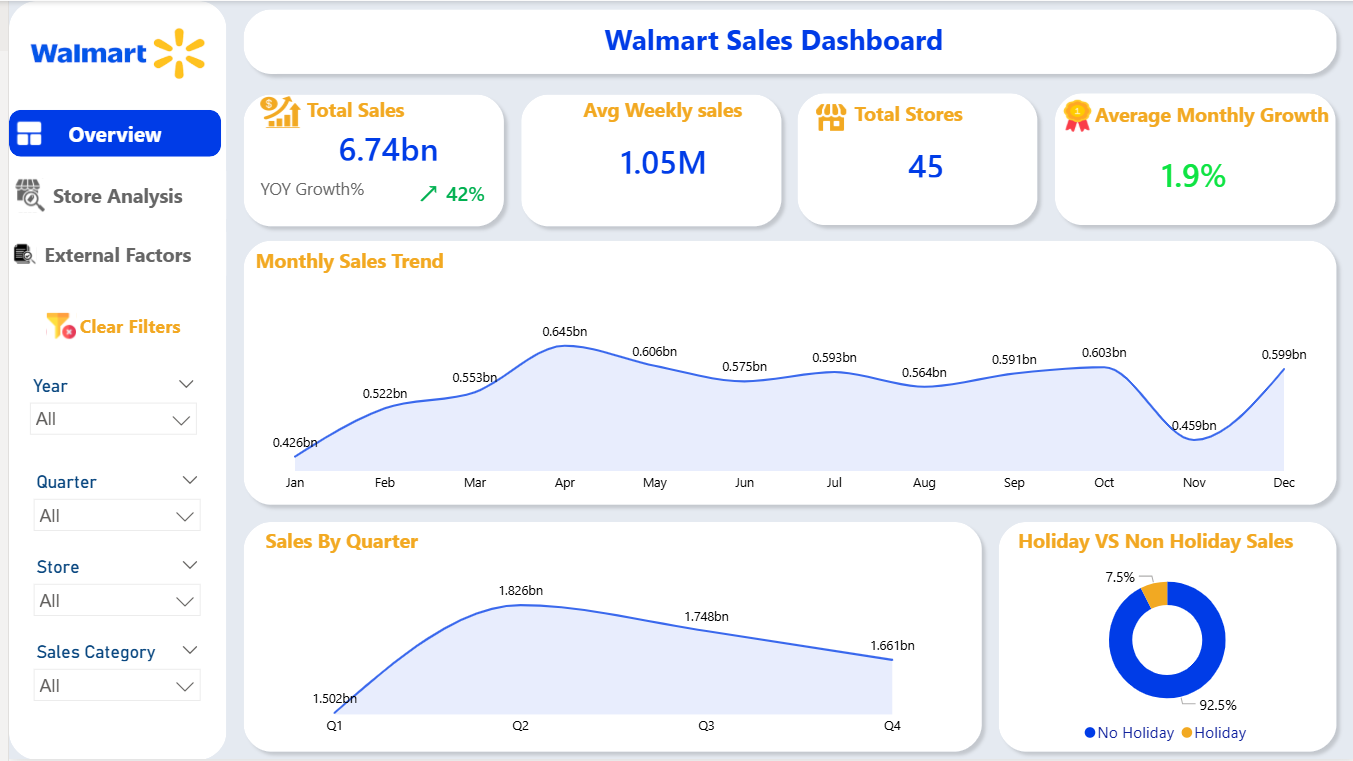

The page's visual inventory and layout, read from the dashboard file:
{"tool":"powerbi","page":{"name":"Overview Dashboard","canvas":[1280,720],"ordinal":0},"visuals":[{"type":"shape","box":[984.5,79.6,282.3,141.2],"z":0},{"type":"shape","box":[0,0,206.3,720.2],"z":1000},{"type":"shape","box":[214.7,0,1053.2,77.2],"z":2000},{"type":"textbox","box":[255.8,13.3,939.8,50.7],"z":3000},{"type":"image","box":[18.1,8.4,170.1,82],"z":4000},{"type":"shape","box":[214.7,80.1,263,141.2],"z":5000},{"type":"shape","box":[477.8,80.1,263,141.2],"z":6000},{"type":"shape","box":[740.8,79.6,243.7,141.2],"z":7000},{"type":"cardVisual","fields":{"Data":["Measure Table.Total Sales"]},"box":[281.1,107.4,158,62.7],"z":8000},{"type":"textbox","box":[277.5,85.7,161.7,43.4],"z":9000},{"type":"image","box":[238.9,90.5,38.6,30.2],"z":10000},{"type":"textbox","box":[521.2,85.7,199.1,38.6],"z":11000},{"type":"cardVisual","fields":{"Data":["Measure Table.Avg Weekly Sales"]},"box":[540.5,120.6,161.7,60.3],"z":12000},{"type":"textbox","box":[797.5,89.3,173.7,44.6],"z":13000},{"type":"cardVisual","fields":{"Data":["Measure Table.Total Stores"]},"box":[786.6,124.3,168.9,60.3],"z":14000},{"type":"image","box":[762.5,94.1,35,33.8],"z":15000},{"type":"shape","box":[214.7,219.6,1053.2,266.6],"z":16000},{"type":"shape","box":[931.4,486.2,336.6,234],"z":17000},{"type":"lineChart","fields":{"Y":["Measure Table.Total Sales"],"Category":["Calender.Month Name"]},"box":[232.8,287.1,1017,188.2],"z":18000},{"type":"shape","box":[214.7,486.2,716.6,234],"z":19000},{"type":"textbox","box":[238.9,494.6,392.1,42.2],"z":20000},{"type":"textbox","box":[229.2,229.2,392.1,42.2],"z":21000},{"type":"donutChart","fields":{"Category":["Walmart_Sales.Holiday Type"],"Y":["Measure Table.Total Sales"]},"box":[937.4,530.8,324.5,183.4],"z":22000},{"type":"textbox","box":[953.1,494.6,314.9,42.2],"z":23000},{"type":"actionButton","box":[0,103.8,201.5,44.6],"z":24000},{"type":"actionButton","box":[0,161.7,206.3,45.8],"z":25000},{"type":"actionButton","box":[0,219.6,206.3,41],"z":26000},{"type":"slicer","fields":{"Values":["Calender.Year"]},"box":[9.7,349.9,178.6,62.7],"z":27000},{"type":"slicer","fields":{"Values":["Calender.Quarter"]},"box":[13.4,441,178.6,62.7],"z":28000},{"type":"slicer","fields":{"Values":["Walmart_Sales.Store"]},"box":[13.4,522.1,178.6,62.7],"z":29000},{"type":"slicer","fields":{"Values":["Walmart_Sales.Sales Category"]},"box":[13.4,603.2,178.6,62.7],"z":30000},{"type":"actionButton","box":[28.5,286.7,141.5,42.2],"z":32000},{"type":"cardVisual","title":"YOY growth%","fields":{"Data":["Measure Table.YOY%"]},"box":[377.6,154.4,112.2,53.1],"z":33000},{"type":"cardVisual","title":"YOY growth%","fields":{"Data":["Measure Table.ARROW"]},"box":[358.3,148.4,77.2,59.1],"z":34000},{"type":"textbox","box":[234,161.7,143.6,36.2],"z":35000},{"type":"textbox","box":[1003.8,90.5,276.3,43.4],"z":36000},{"type":"image","box":[995.3,94.1,37.4,30.2],"z":38000},{"type":"lineChart","fields":{"Y":["Measure Table.Total Sales"],"Category":["Calender.Quarter"]},"box":[234,536.9,680.4,170.1],"z":39000},{"type":"cardVisual","fields":{"Data":["Measure Table.Avg Monthly Growth"]},"box":[1033.9,129.1,183.4,67.6],"z":40000}]}

Visuals, with their boxes in screenshot pixels (x1, y1, x2, y2), scaled from the page's 1280x720 canvas onto the 1353x761 screenshot:
shape: [left=1041, top=84, right=1339, bottom=233]
shape: [left=0, top=0, right=218, bottom=760]
shape: [left=227, top=0, right=1340, bottom=82]
textbox: [left=270, top=14, right=1264, bottom=68]
image: [left=19, top=9, right=199, bottom=96]
shape: [left=227, top=85, right=505, bottom=234]
shape: [left=505, top=85, right=783, bottom=234]
shape: [left=783, top=84, right=1041, bottom=233]
cardVisual - Measure Table.Total Sales: [left=297, top=114, right=464, bottom=180]
textbox: [left=293, top=91, right=464, bottom=136]
image: [left=253, top=96, right=293, bottom=128]
textbox: [left=551, top=91, right=761, bottom=131]
cardVisual - Measure Table.Avg Weekly Sales: [left=571, top=127, right=742, bottom=191]
textbox: [left=843, top=94, right=1027, bottom=142]
cardVisual - Measure Table.Total Stores: [left=831, top=131, right=1010, bottom=195]
image: [left=806, top=99, right=843, bottom=135]
shape: [left=227, top=232, right=1340, bottom=514]
shape: [left=985, top=514, right=1340, bottom=760]
lineChart - Measure Table.Total Sales x Calender.Month Name: [left=246, top=303, right=1321, bottom=502]
shape: [left=227, top=514, right=984, bottom=760]
textbox: [left=253, top=523, right=667, bottom=567]
textbox: [left=242, top=242, right=657, bottom=287]
donutChart - Walmart_Sales.Holiday Type x Measure Table.Total Sales: [left=991, top=561, right=1334, bottom=755]
textbox: [left=1007, top=523, right=1340, bottom=567]
actionButton: [left=0, top=110, right=213, bottom=157]
actionButton: [left=0, top=171, right=218, bottom=219]
actionButton: [left=0, top=232, right=218, bottom=275]
slicer - Calender.Year: [left=10, top=370, right=199, bottom=436]
slicer - Calender.Quarter: [left=14, top=466, right=203, bottom=532]
slicer - Walmart_Sales.Store: [left=14, top=552, right=203, bottom=618]
slicer - Walmart_Sales.Sales Category: [left=14, top=638, right=203, bottom=704]
actionButton: [left=30, top=303, right=180, bottom=348]
"YOY growth%" cardVisual: [left=399, top=163, right=518, bottom=219]
"YOY growth%" cardVisual: [left=379, top=157, right=460, bottom=219]
textbox: [left=247, top=171, right=399, bottom=209]
textbox: [left=1061, top=96, right=1352, bottom=142]
image: [left=1052, top=99, right=1092, bottom=131]
lineChart - Measure Table.Total Sales x Calender.Quarter: [left=247, top=567, right=967, bottom=747]
cardVisual - Measure Table.Avg Monthly Growth: [left=1093, top=136, right=1287, bottom=208]
